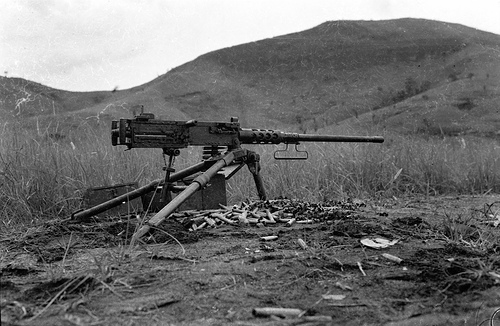rifle: (91, 95, 392, 229)
